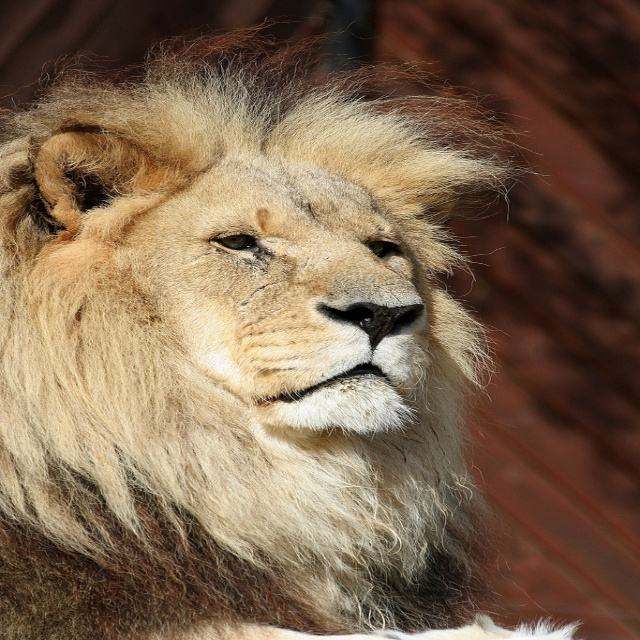Lion: (0, 14, 579, 640)
